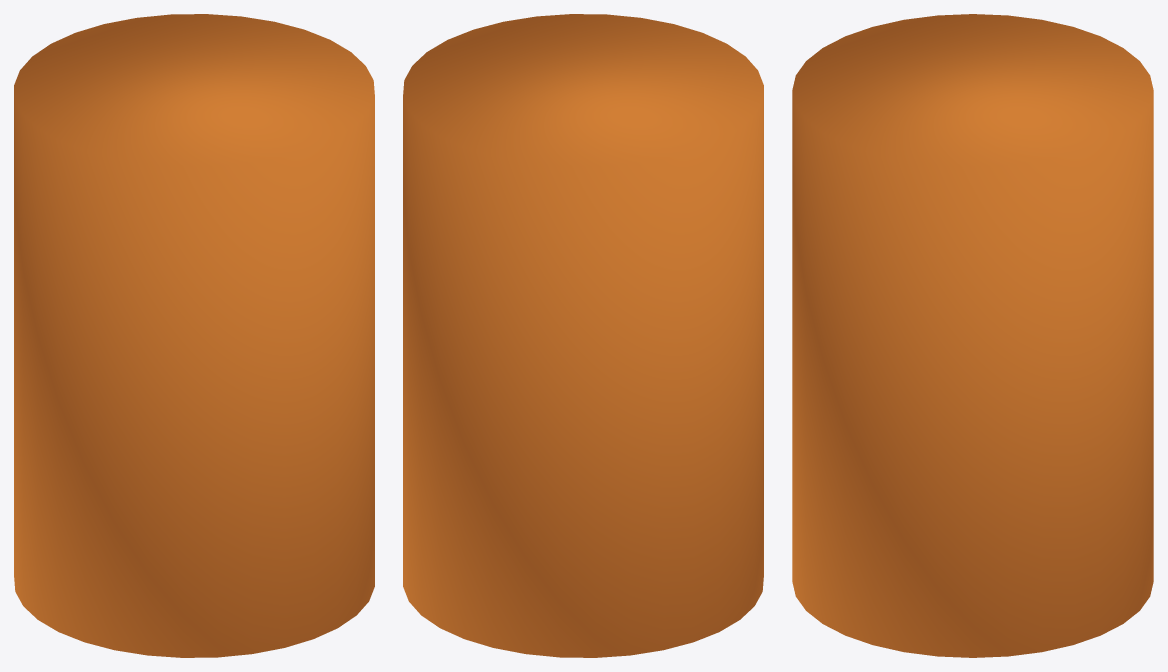
File: trap.glb
The picture shows the model from 3 angles, left to right: view 1: azimuth 30°, elevation 25°; view 2: azimuth 150°, elevation 25°; view 3: azimuth 270°, elevation 25°; orthographic projection.
Parts seen in each view (by area): view 1: Cylinder.001; view 2: Cylinder.001; view 3: Cylinder.001.
Boxes of the visible parts, x1,y1,x2,y2 form: Cylinder.001: (14, 14, 374, 657); Cylinder.001: (403, 14, 763, 657); Cylinder.001: (792, 14, 1153, 657).
Bounding box in the file's own units: 1 × 1.5 × 1.
3 materials, 1 textured.
